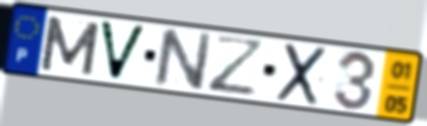3: (331, 49, 378, 113)
M: (37, 14, 104, 78)
N: (152, 27, 215, 93)
V: (96, 18, 150, 84)
X: (273, 41, 330, 109)
Z: (206, 32, 269, 98)
